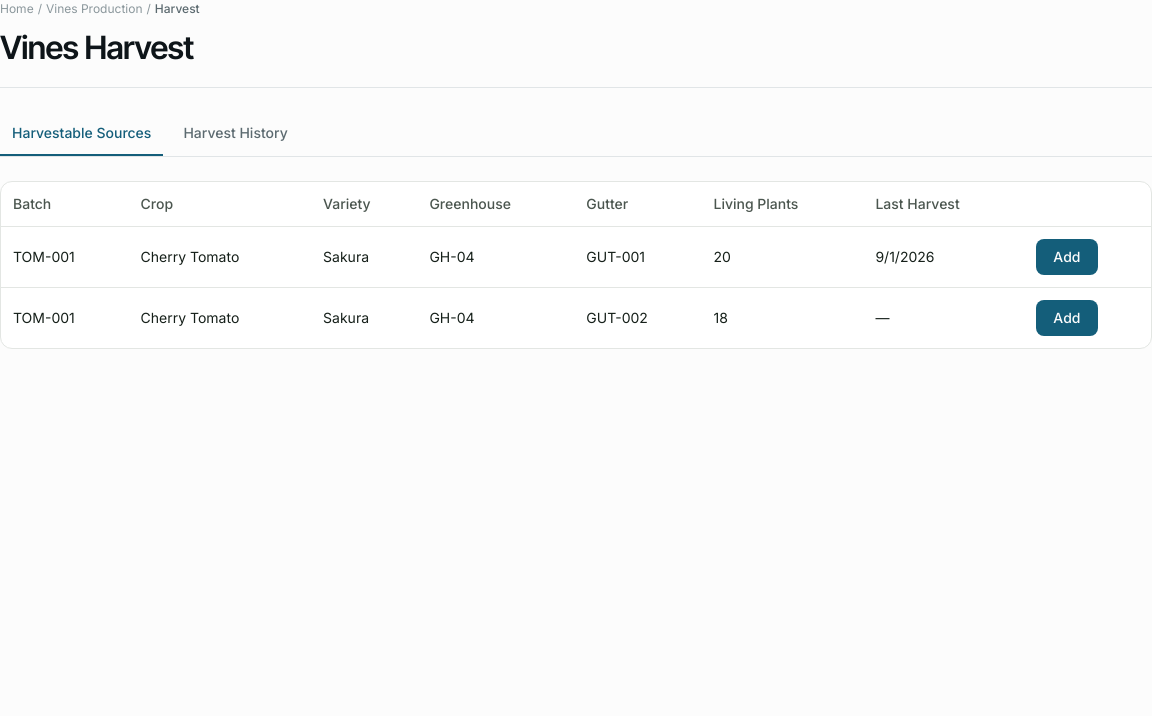
Test: VinesHarvestPage › supports multiple Gutter rows with independent weight inputs and shows the total in Review
The image size is (1152, 716).
Expected: the text "GUT-001" is shown, x1=574 y1=226 x2=701 y2=287
Click the button "Add" in the row of "GUT-001": (1067, 257) x1=1036 y1=239 x2=1098 y2=275
(page scrolled)
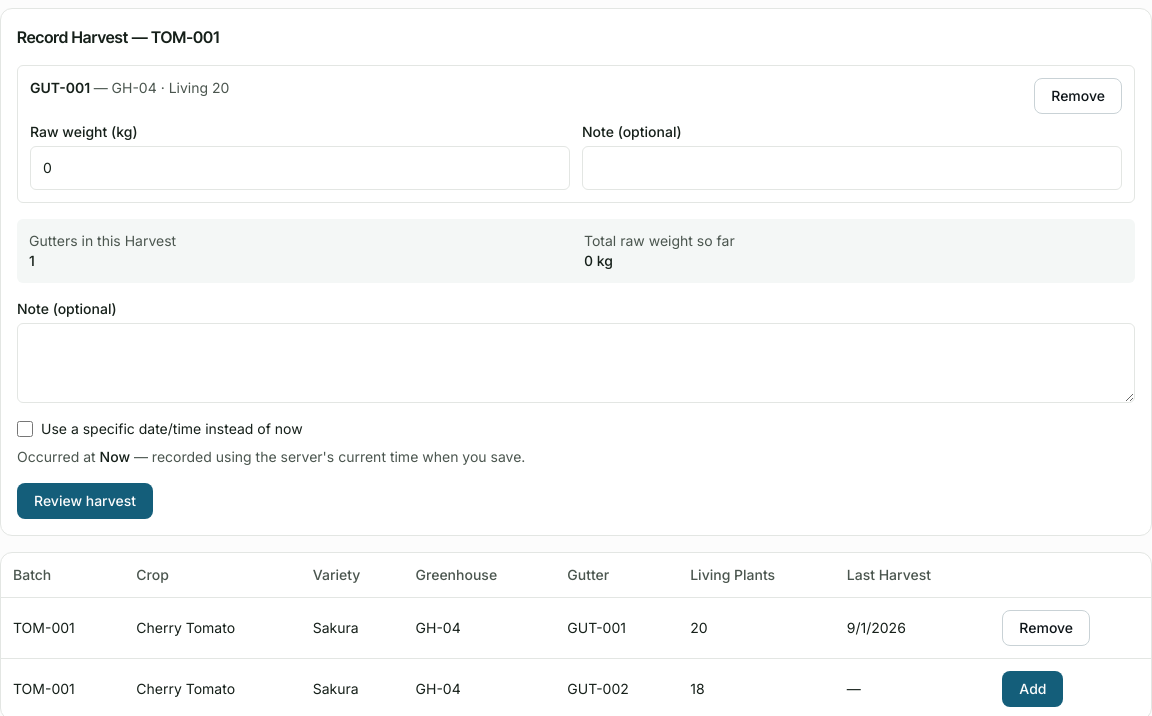
Result: the heading "Record Harvest — TOM-001" is shown at x1=17 y1=27 x2=219 y2=47
Click the button "Add": (1033, 689) x1=1002 y1=671 x2=1063 y2=707
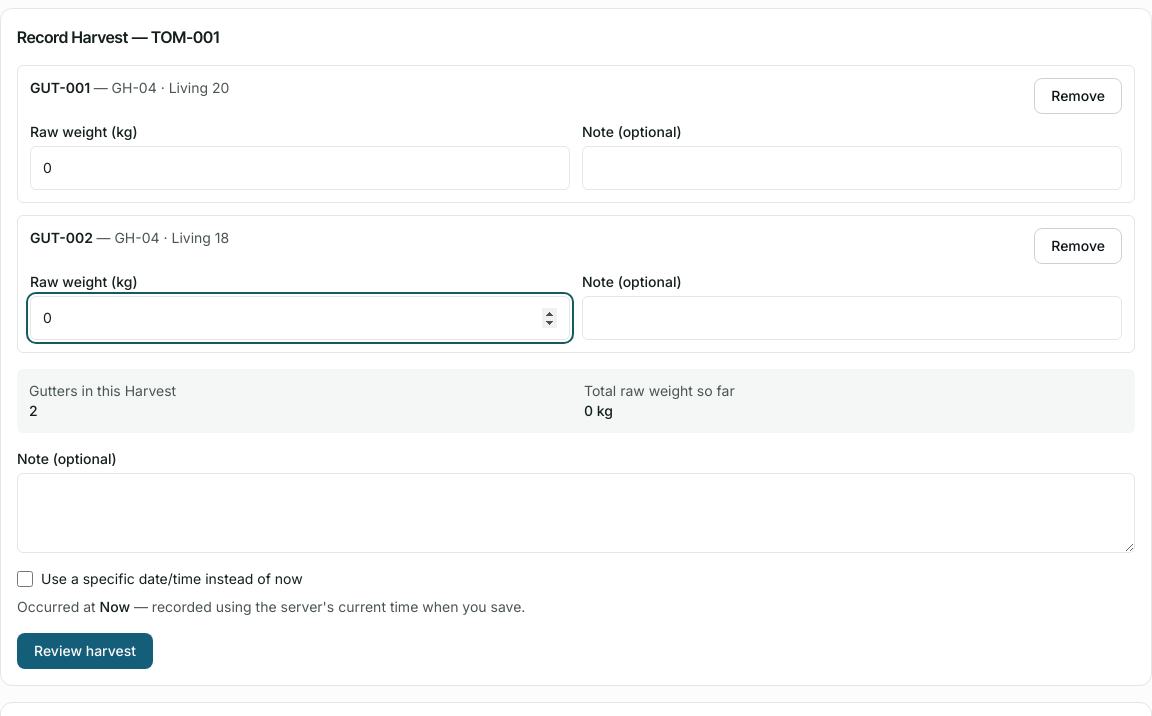
Result: the number of number fields labelled "Raw weight (kg)" is 2
Replace the text in the 1st number field labelled "Raw weight (kg)" with "15": (300, 168) x1=30 y1=146 x2=570 y2=190
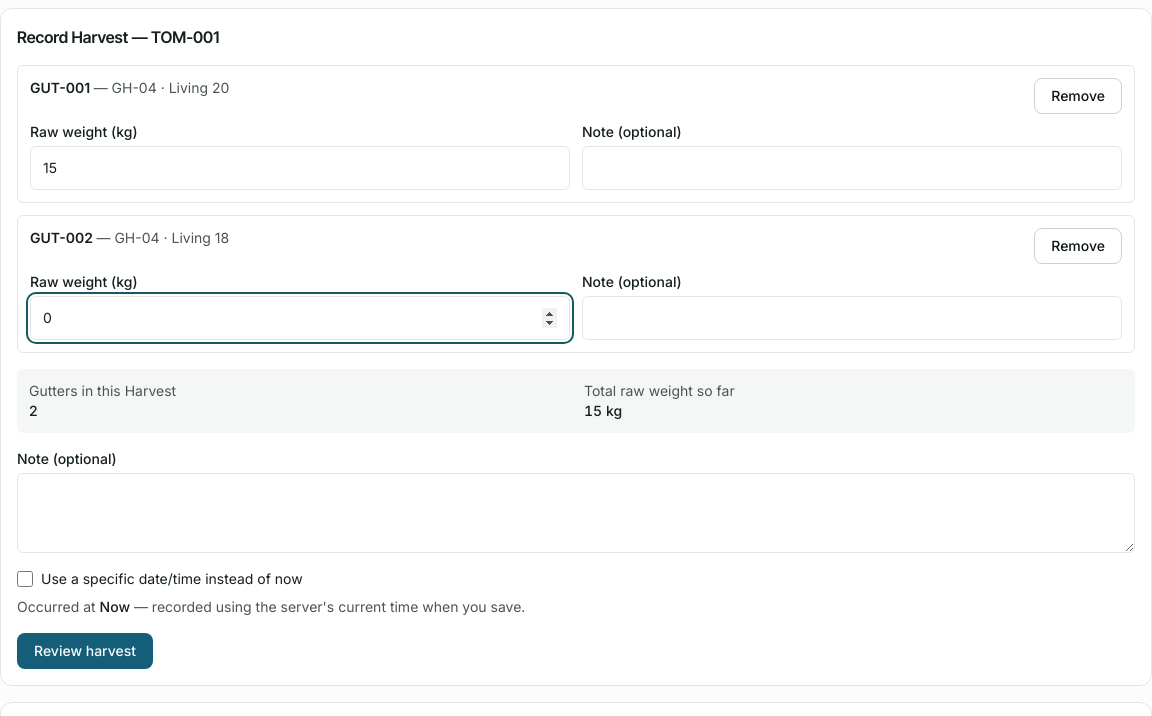
Replace the text in the 2nd number field labelled "Raw weight (kg)" with "12": (300, 318) x1=30 y1=296 x2=570 y2=340
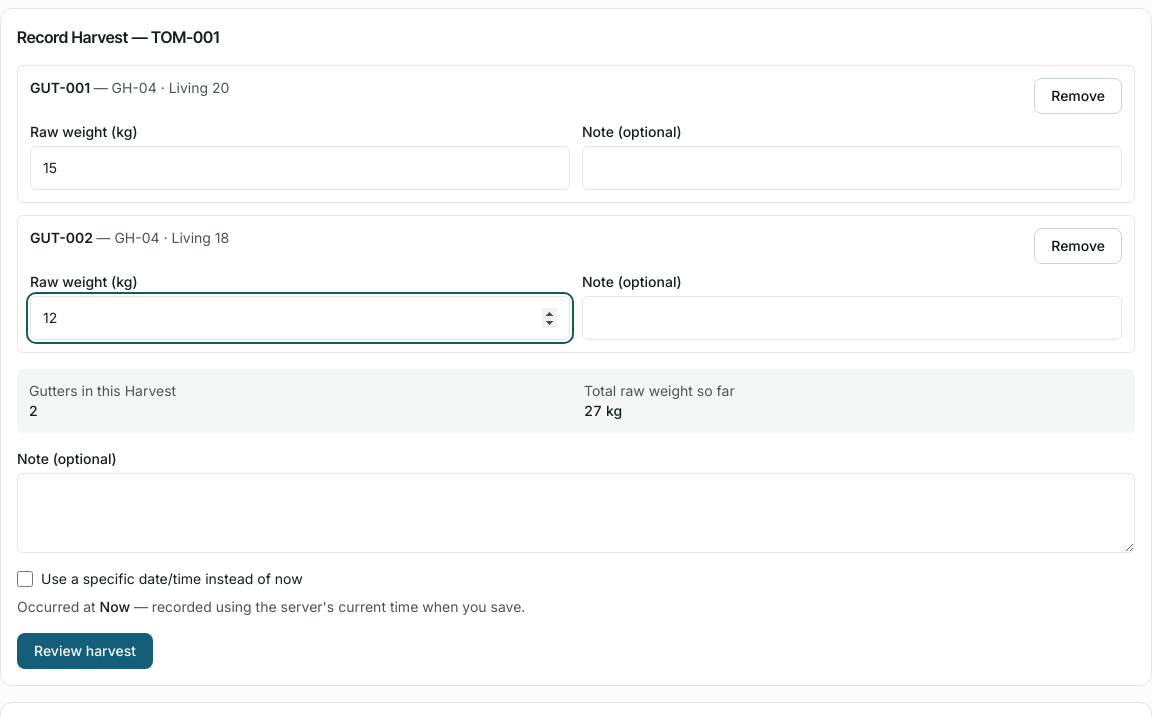
Click the button "Review harvest": (85, 651) x1=17 y1=633 x2=153 y2=669
(page scrolled)
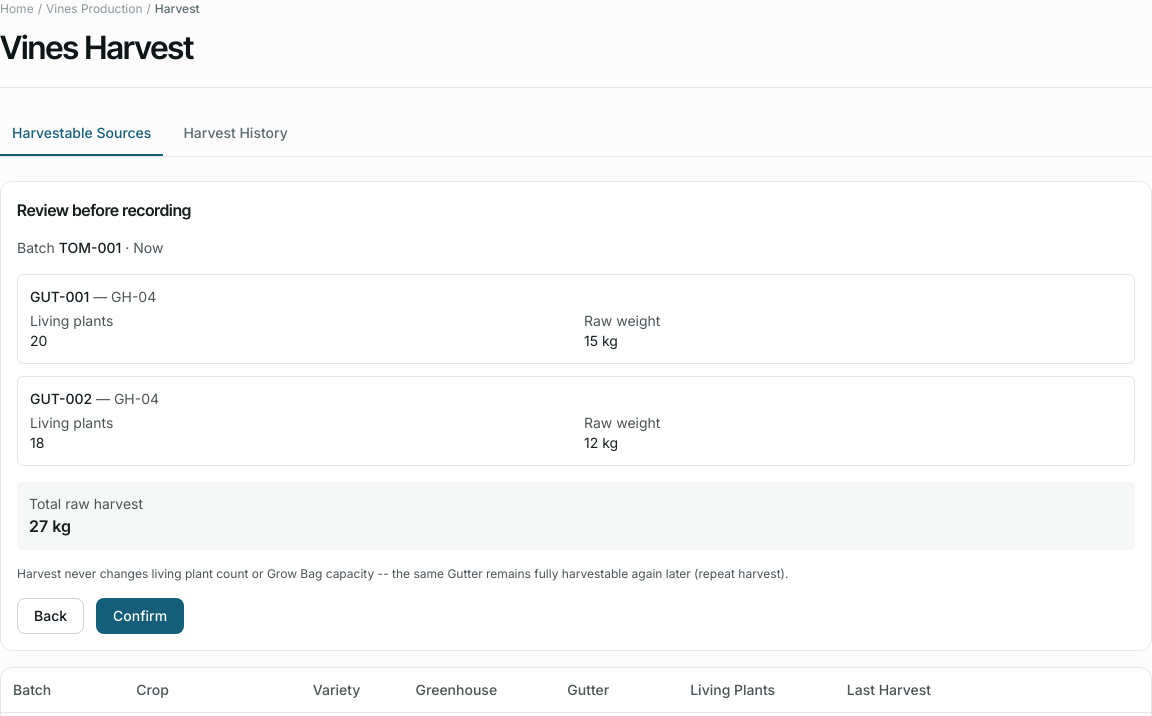
Result: the text "27 kg" is shown at x1=29 y1=516 x2=71 y2=536
Result: the heading "Review before recording" is shown at x1=17 y1=200 x2=191 y2=220
